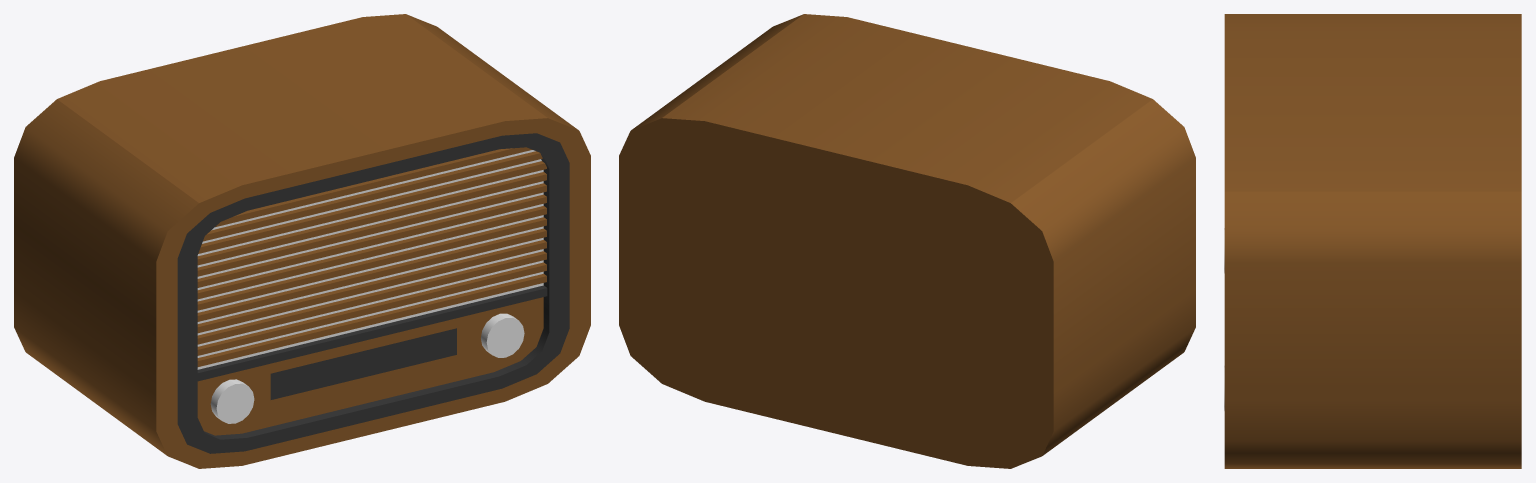
The model's file is decor_radio.fbx.
3 views of the same model, side by side, from view 1: azimuth 30°, elevation 25°; view 2: azimuth 150°, elevation 25°; view 3: azimuth 270°, elevation 25° (orthographic). The views are drawn at different scales.
Parts seen in each view (by area): view 1: Cube.040; view 2: Cube.040; view 3: Cube.040.
Boxes of the visible parts, x1,y1,x2,y2 form: Cube.040: (14, 14, 590, 468); Cube.040: (619, 14, 1195, 468); Cube.040: (1224, 14, 1521, 468).
Size of the model in its own units: 54.66 by 33.72 by 31.02.
